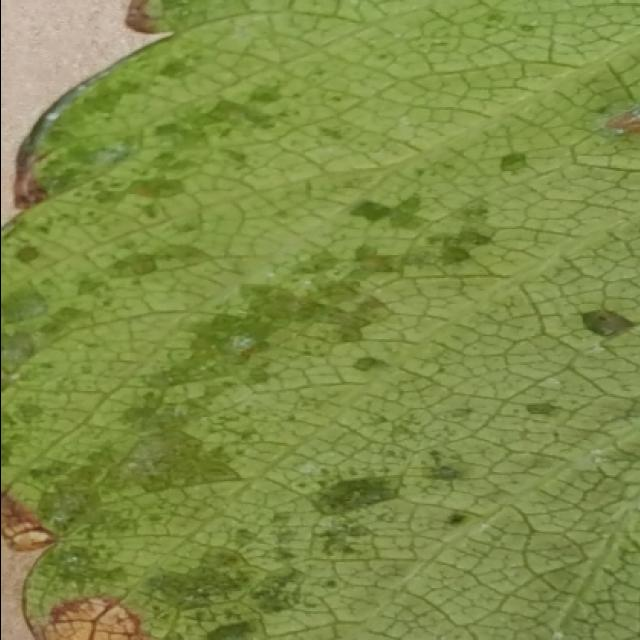Angular Leafspot: (2, 0, 640, 638)
